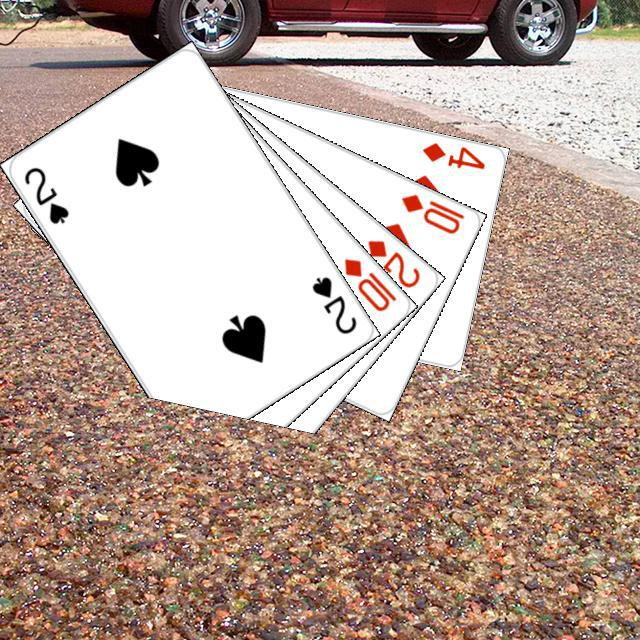10d: (339, 253, 399, 314), (396, 189, 466, 236)
2d: (362, 234, 422, 290)
2s: (306, 271, 359, 336), (19, 162, 71, 226)
4d: (417, 137, 487, 171)
